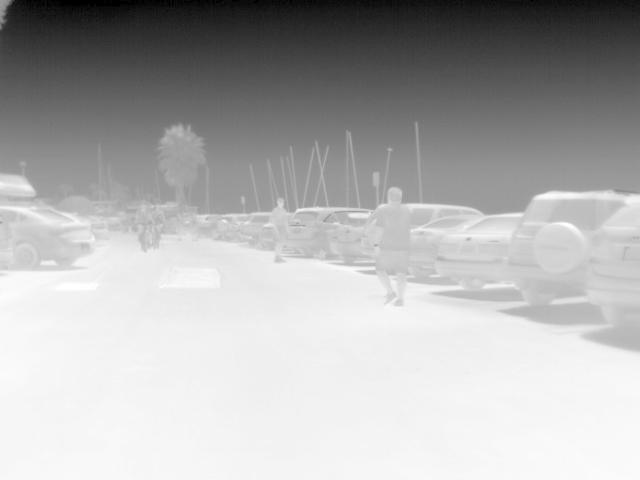car: (500, 190, 638, 308), (433, 210, 524, 292), (586, 203, 638, 330), (0, 203, 98, 269), (405, 214, 488, 278), (289, 206, 377, 257), (401, 203, 485, 237), (325, 227, 370, 266), (239, 211, 271, 243), (80, 214, 109, 244), (216, 213, 248, 240)
person: (369, 188, 414, 308), (269, 196, 293, 263), (132, 202, 154, 244), (149, 204, 165, 234)
